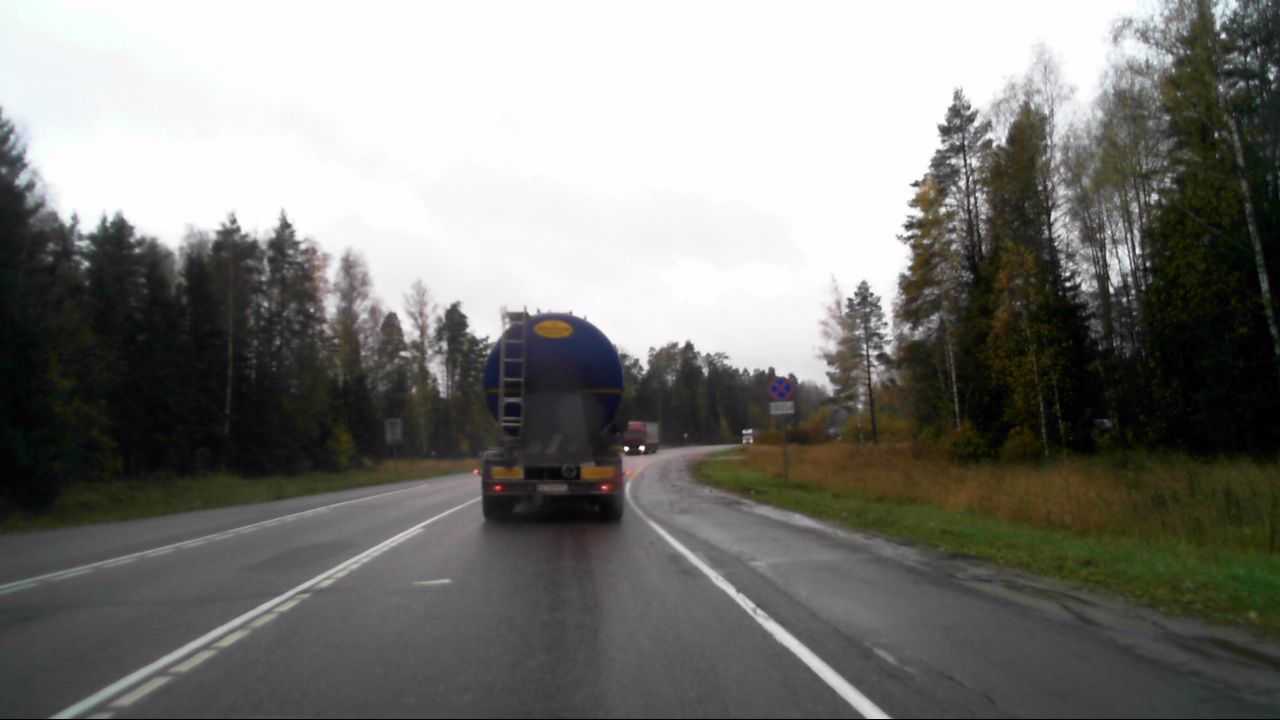No Parking: (764, 374, 792, 398)
